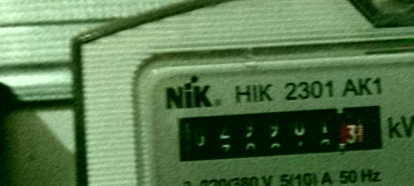0: (291, 113, 306, 139), (191, 126, 208, 148)
1: (316, 113, 330, 136)
2: (215, 121, 232, 141)
3: (344, 122, 358, 145)
9: (266, 117, 281, 139), (241, 118, 254, 141)
screen: (163, 95, 394, 172)
